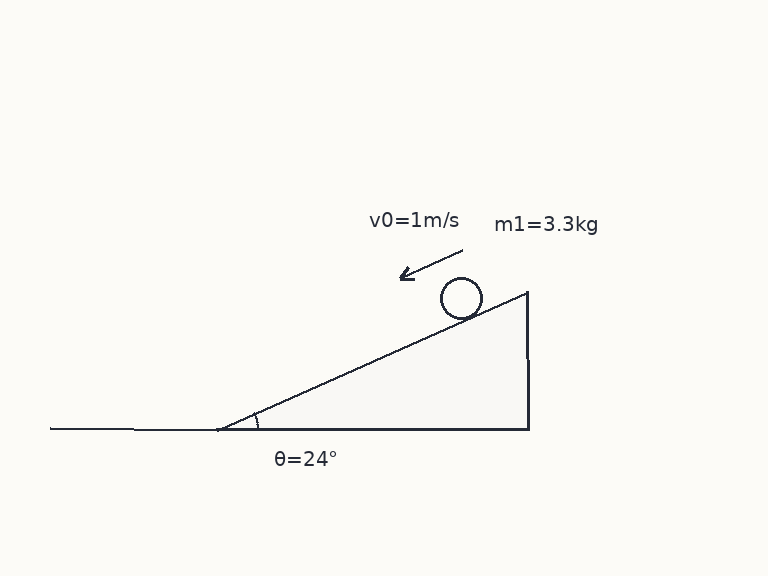ball: (438, 275, 484, 321)
ramp: (216, 289, 530, 431)
